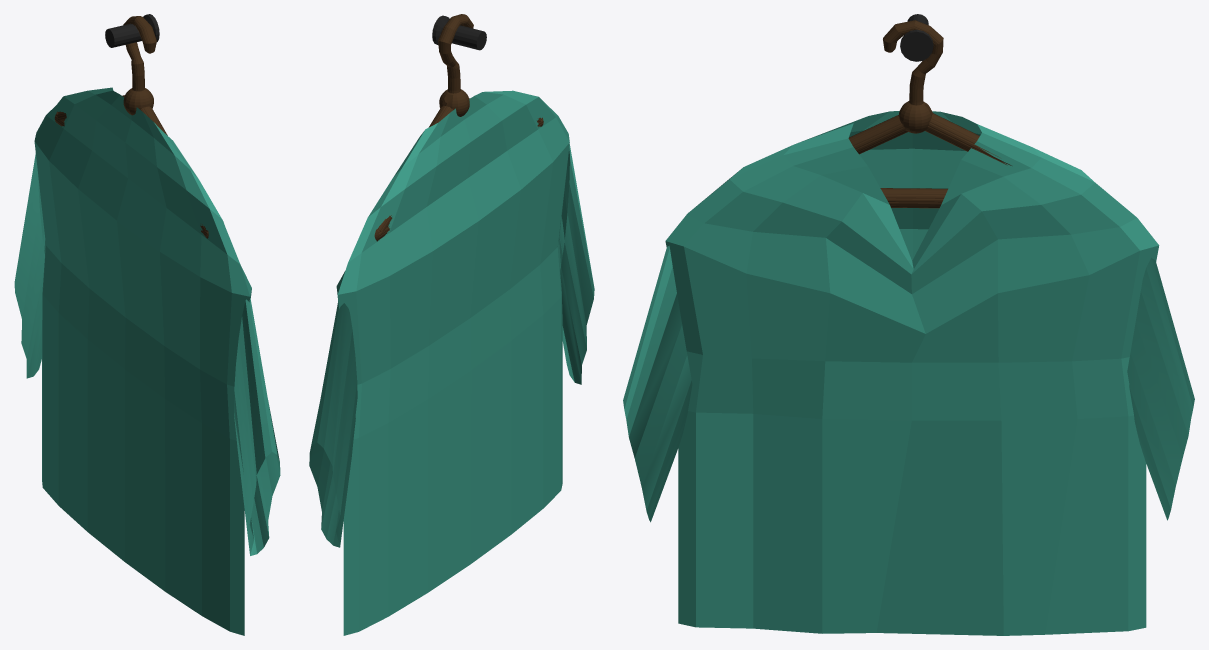
File: TeeShirt.fbx
3 renders of one model, left to right at view 1: azimuth 30°, elevation 25°; view 2: azimuth 150°, elevation 25°; view 3: azimuth 270°, elevation 25°, orthographic. The views are drawn at different scales.
Parts seen in each view (by area): view 1: TeeShirt, Hook TeeShirt; view 2: TeeShirt, Hook TeeShirt; view 3: TeeShirt, Hook TeeShirt.
Part boxes in pixels (x1,y1,x2,y2): TeeShirt: [14, 16, 280, 635]; Hook TeeShirt: [105, 14, 159, 47]; TeeShirt: [309, 14, 594, 635]; Hook TeeShirt: [432, 15, 486, 50]; TeeShirt: [623, 20, 1194, 635]; Hook TeeShirt: [900, 14, 933, 61].
Bounding box in the file's own units: 9.55 × 94.21 × 80.39.
